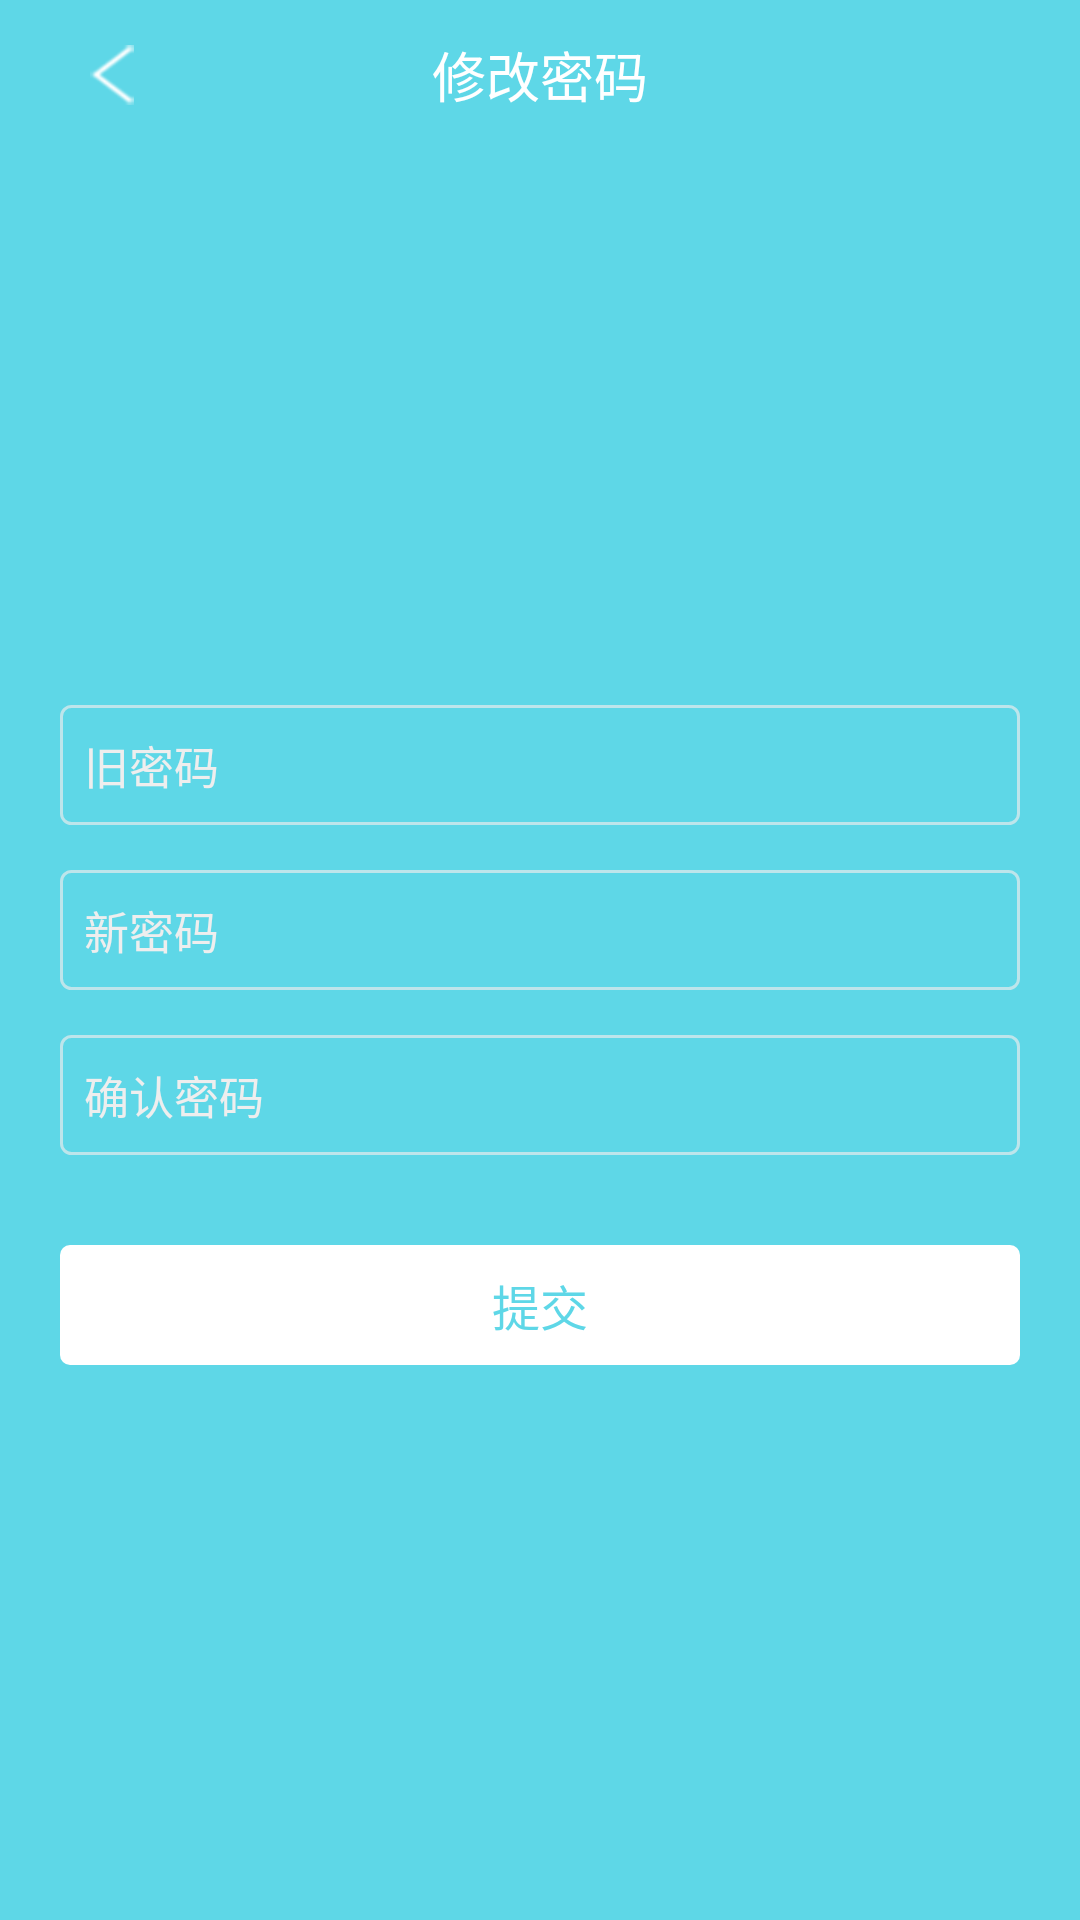

Screen size 1080 × 1920. Icon name, then its center in pixels as [x,y]:
back: [112,75]
